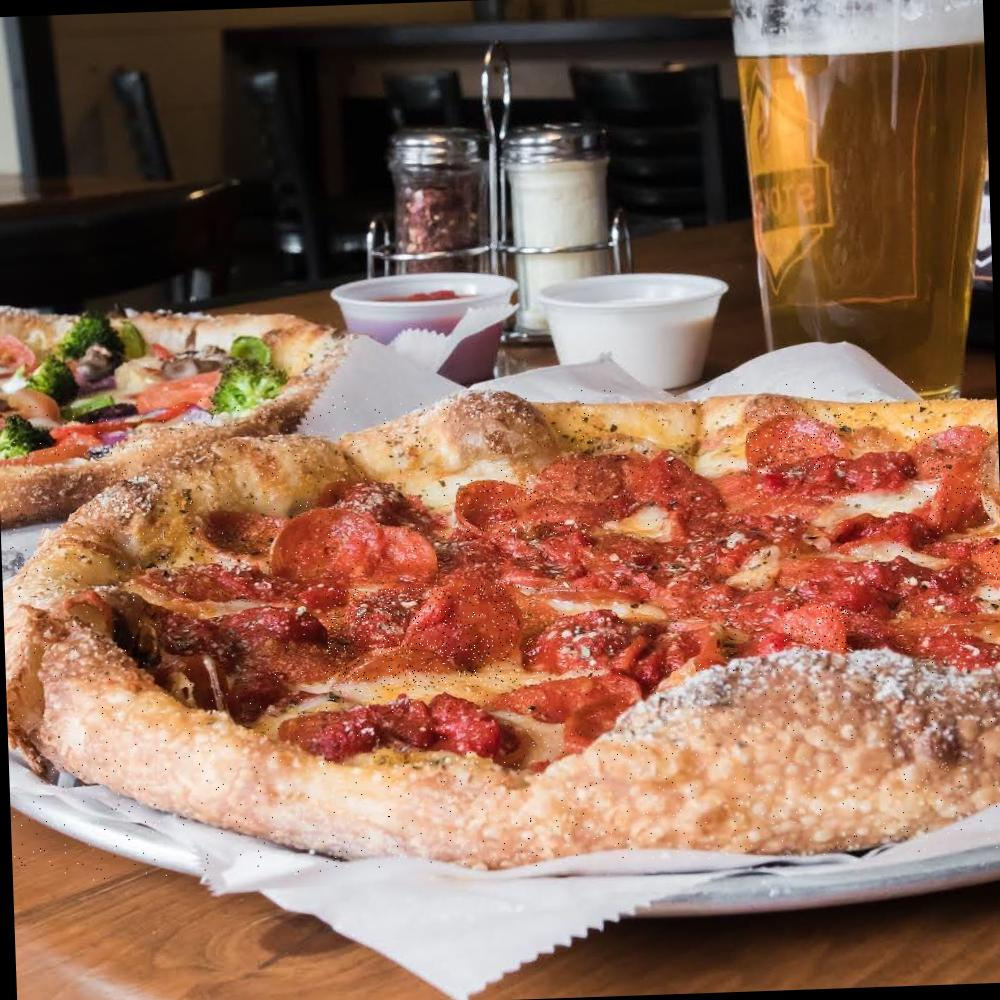Pepperoni: (326, 586, 516, 694), (266, 507, 439, 594), (456, 474, 588, 550), (559, 453, 711, 515), (746, 408, 845, 475), (924, 470, 994, 538), (912, 422, 995, 473), (784, 601, 852, 652), (971, 538, 1000, 583)
Pizza: (0, 372, 1000, 884)
